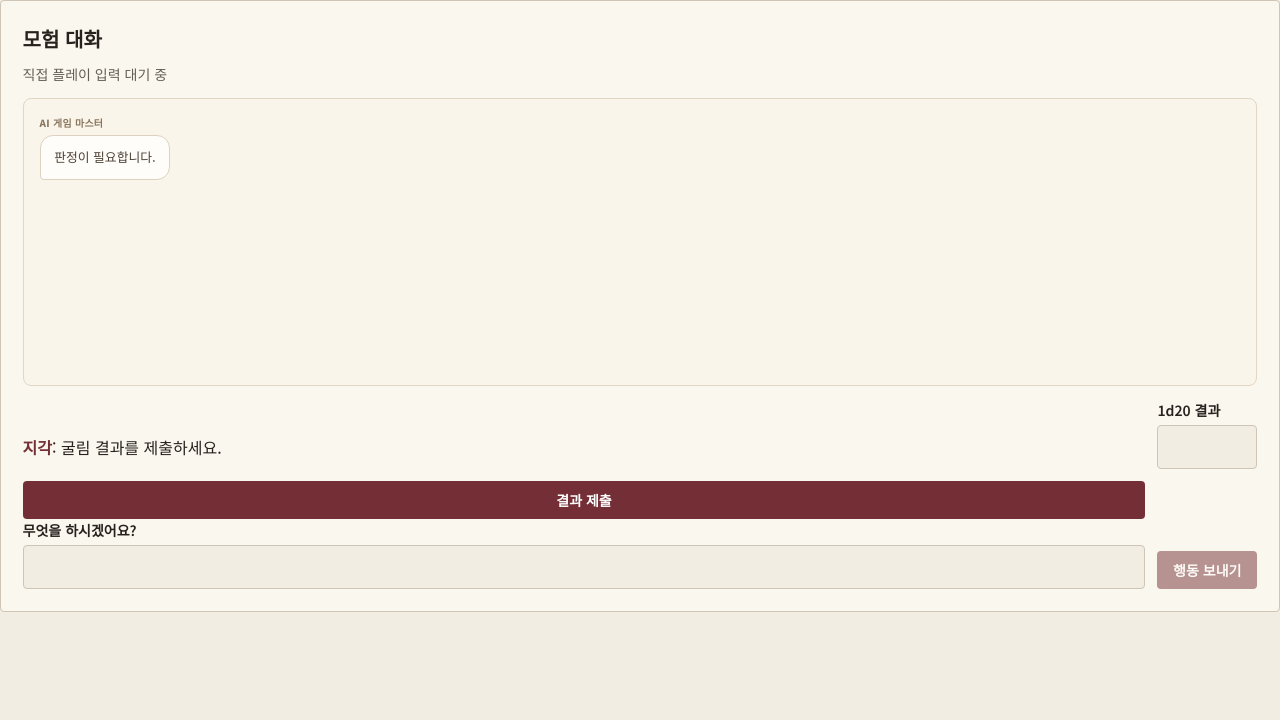
Test: restores an outstanding player roll and persisted current scene after reopening
Expected: the form named "주사위 굴림 요청" is shown, top-left (23, 399), bottom-right (1257, 519)
Expected: the field labelled "무엇을 하시겠어요?" is disabled, top-left (23, 545), bottom-right (1145, 589)
Type "13" into the number field labelled "1d20 결과" at (1207, 447), box top-left (1157, 425), bottom-right (1257, 469)
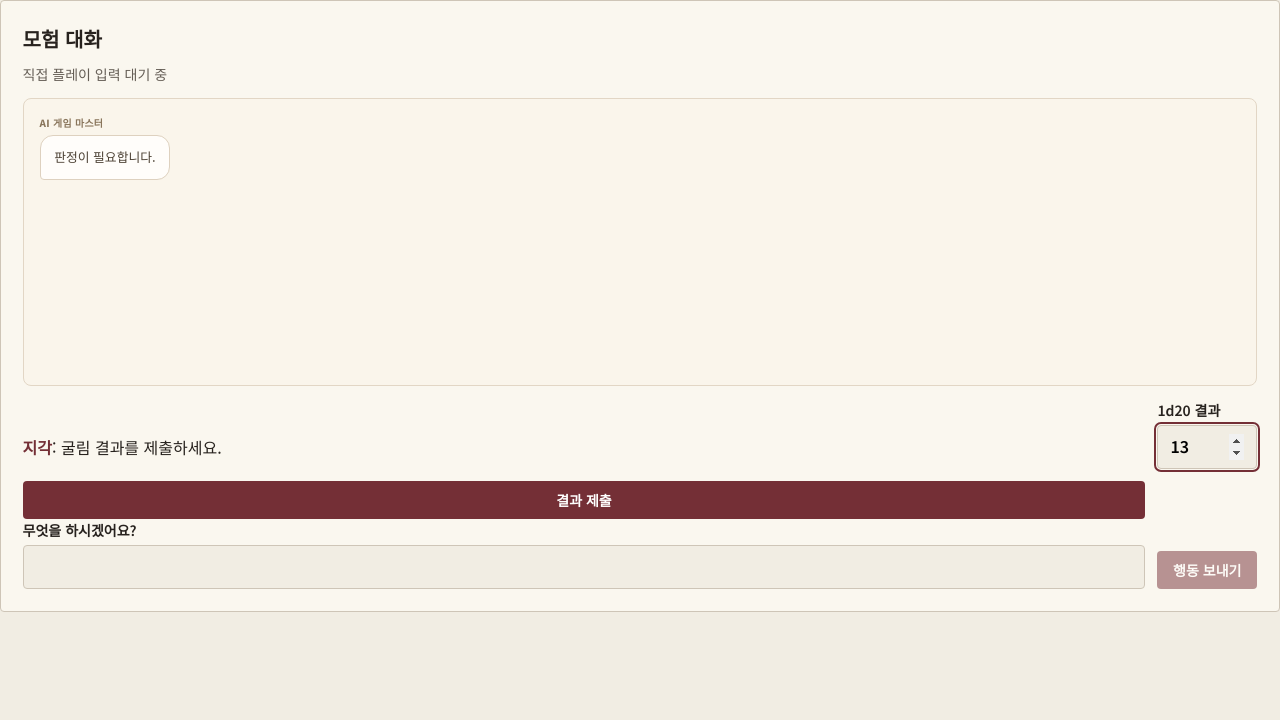
Click the button "결과 제출" at (584, 500), box top-left (23, 481), bottom-right (1145, 519)
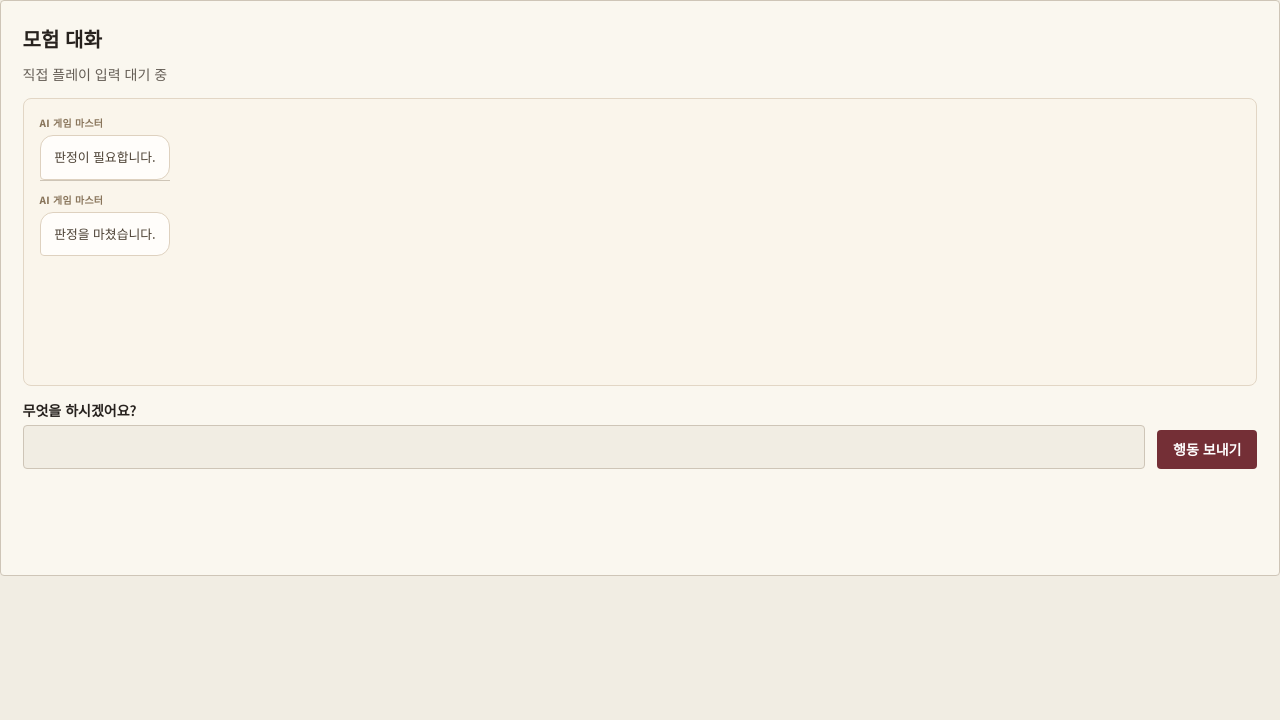
Expected: the text "판정을 마쳤습니다." is shown, top-left (40, 212), bottom-right (170, 256)
